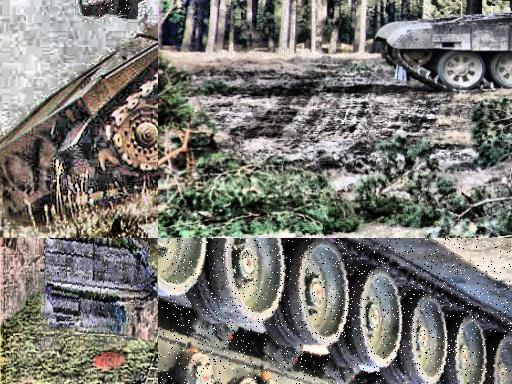tanks: (159, 239, 512, 384), (1, 26, 159, 221), (376, 12, 512, 91), (45, 239, 157, 327), (83, 1, 138, 17), (489, 1, 509, 7)
